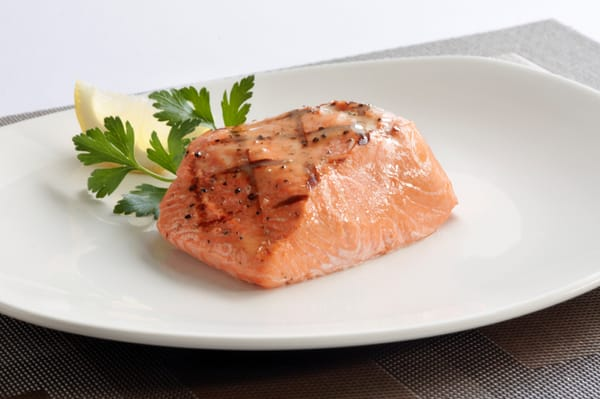soup: (156, 99, 458, 290)
